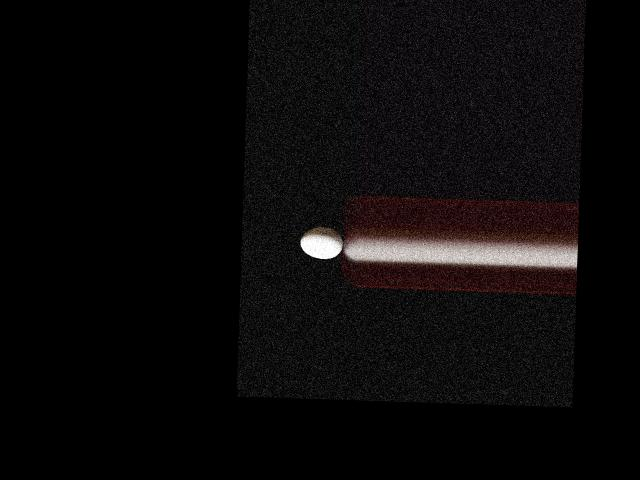egg: (300, 227, 343, 259)
